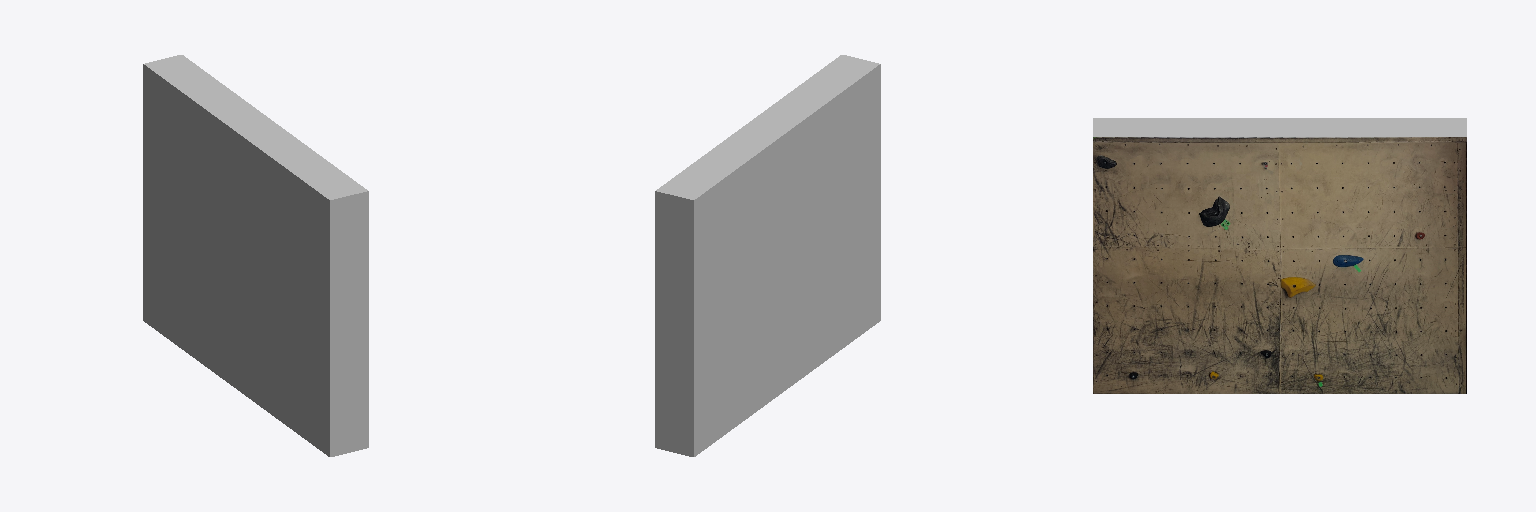
The picture shows the model from 3 angles: view 1: azimuth 30°, elevation 25°; view 2: azimuth 150°, elevation 25°; view 3: azimuth 270°, elevation 25°; orthographic projection.
Visible parts, largest first — view 1: Cube; view 2: Cube; view 3: Cube.
Boxes of the visible parts, x1=… form: Cube: x1=143, y1=55, x2=368, y2=456; Cube: x1=655, y1=55, x2=880, y2=456; Cube: x1=1093, y1=118, x2=1466, y2=393.
Bounding box in the file's own units: 0.3 × 1.9 × 2.5.
2 materials, 1 textured.